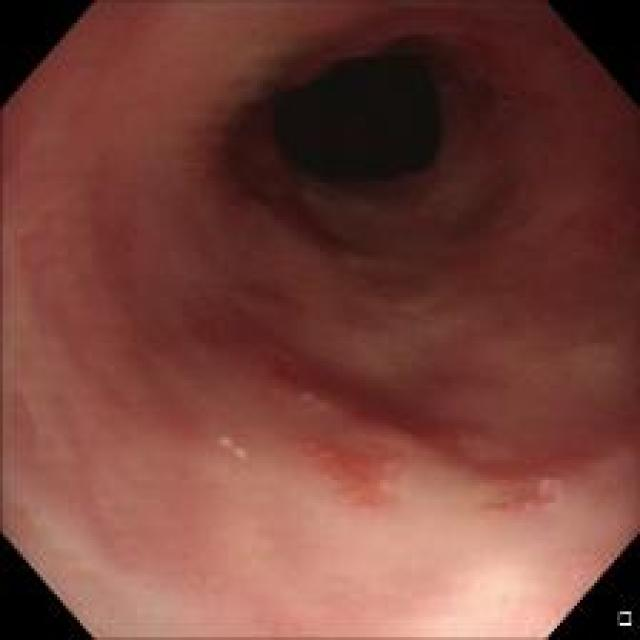contrast: (224, 35, 465, 215)
